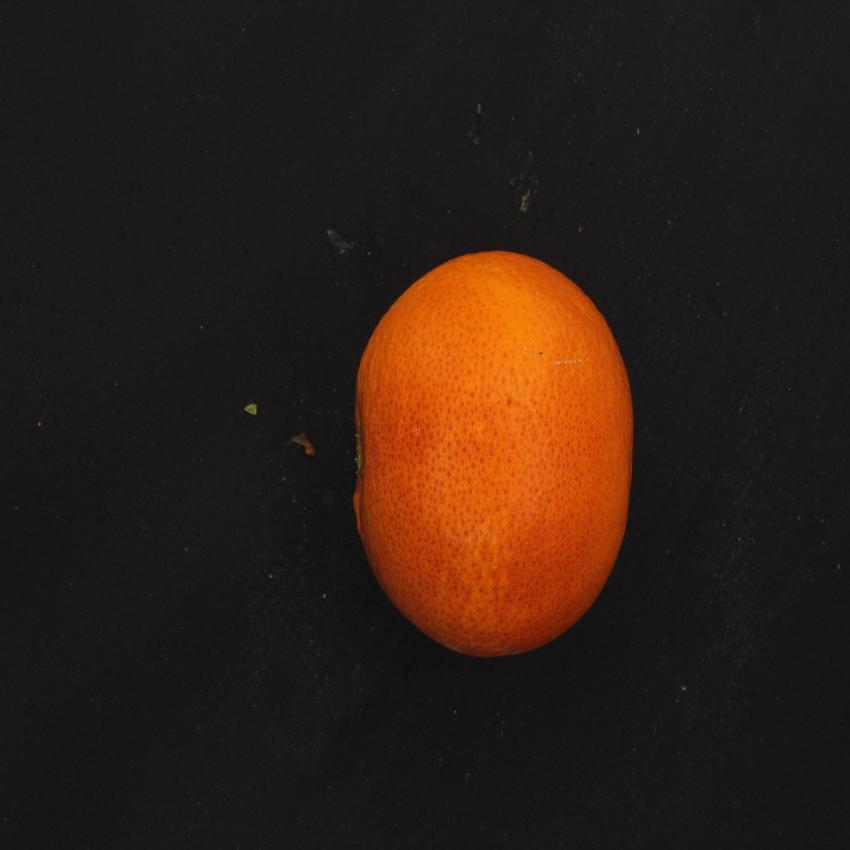Buen estado: (344, 241, 644, 671)
